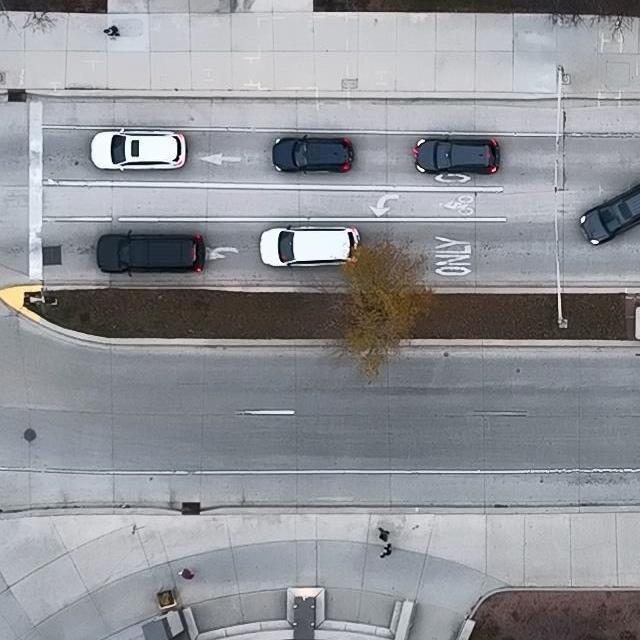car: (97, 228, 206, 277), (259, 223, 363, 268), (90, 127, 188, 173), (579, 181, 640, 245), (415, 136, 499, 176), (272, 134, 353, 173)
